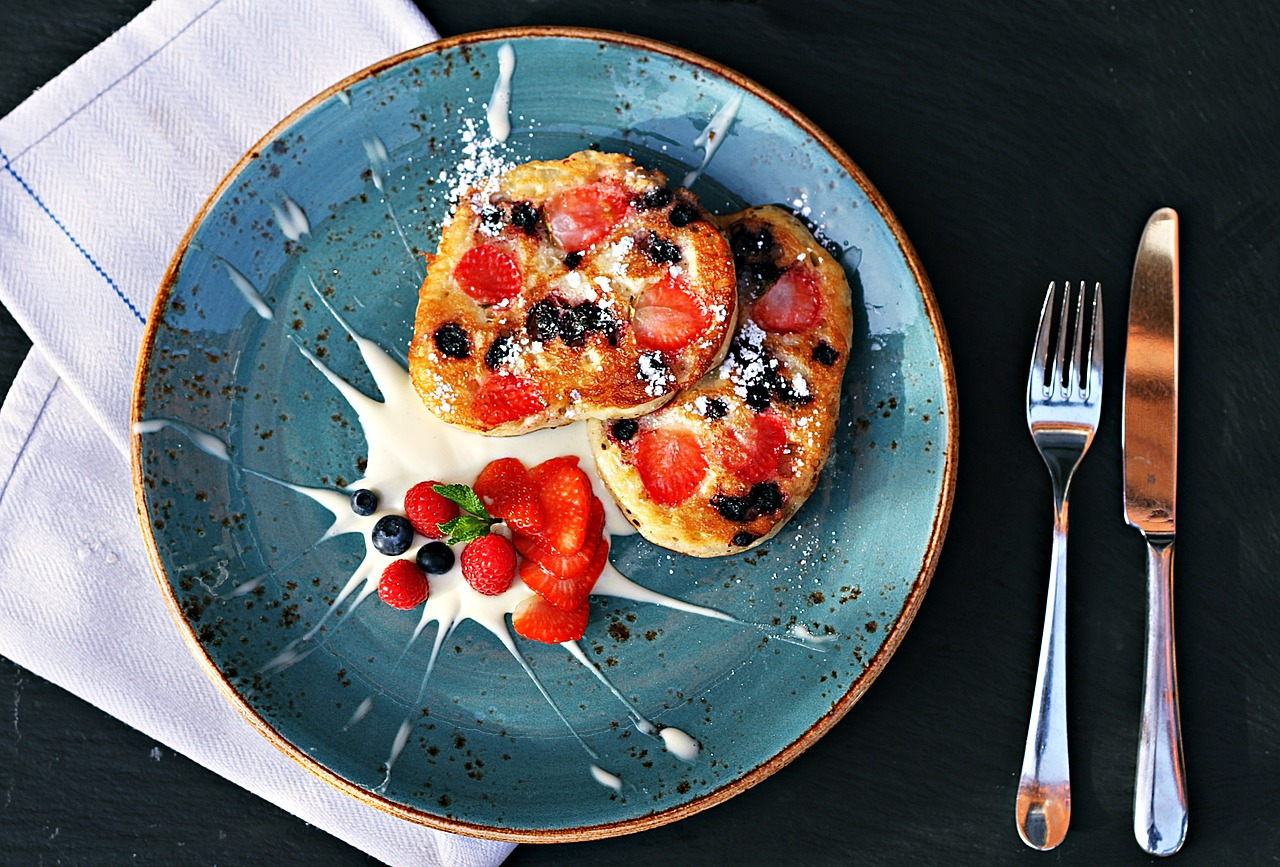knife: (1119, 201, 1205, 856)
